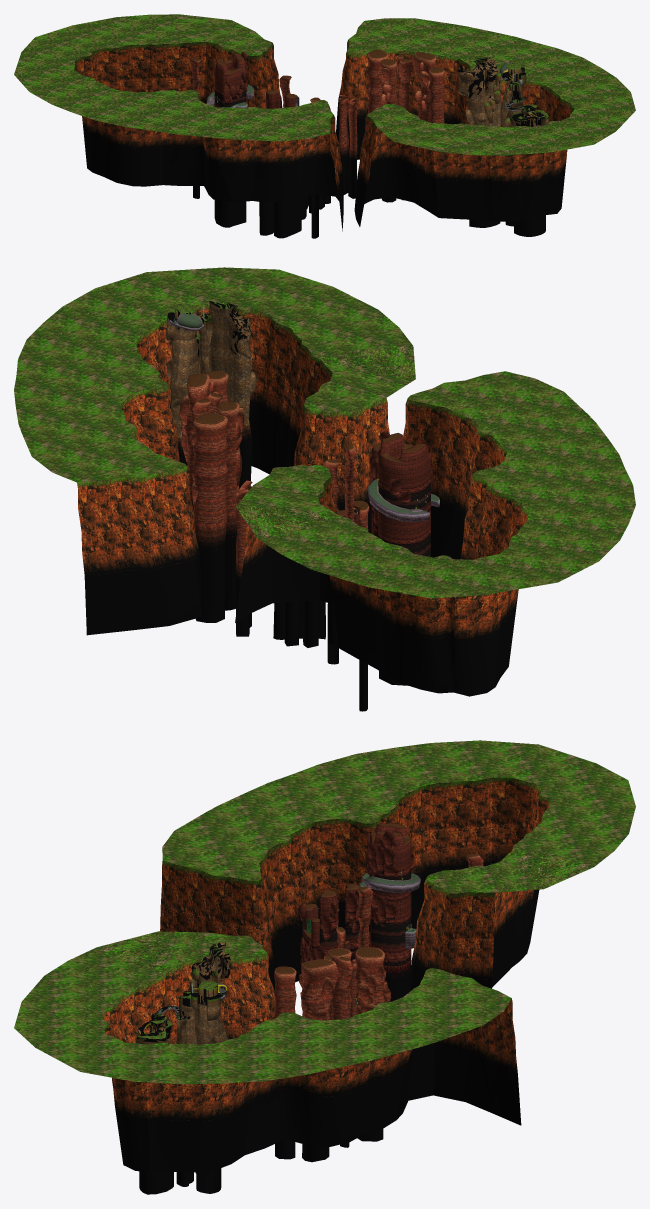
The model's file is mountain_red.glb.
3 views of the same model, one above another, from view 1: azimuth 30°, elevation 25°; view 2: azimuth 150°, elevation 25°; view 3: azimuth 270°, elevation 25° (orthographic). The views are drawn at different scales.
Visible parts, largest first — view 1: Object_24, Object_41, Object_9, Object_18, Object_11, Object_47, Object_30, Object_17, Object_38, Object_35, Object_36; view 2: Object_24, Object_41, Object_18, Object_9, Object_11, Object_47, Object_17, Object_38, Object_35, Object_32, Object_29, Object_21 (+3 smaller); view 3: Object_24, Object_41, Object_18, Object_9, Object_11, Object_17, Object_47, Object_38, Object_29, Object_30, Object_21, Object_35 (+2 smaller).
Boxes of the visible parts, x1,y1,x2,y2 form: Object_24: [14, 14, 635, 155]; Object_41: [83, 100, 565, 238]; Object_9: [82, 71, 567, 192]; Object_18: [74, 39, 574, 163]; Object_11: [190, 58, 444, 148]; Object_47: [457, 60, 548, 127]; Object_30: [458, 57, 548, 126]; Object_17: [214, 51, 299, 108]; Object_38: [190, 54, 444, 107]; Object_35: [193, 50, 443, 100]; Object_36: [475, 58, 536, 127]; Object_24: [14, 267, 635, 598]; Object_41: [84, 403, 516, 711]; Object_18: [77, 303, 528, 600]; Object_9: [81, 360, 518, 640]; Object_11: [179, 388, 368, 563]; Object_47: [165, 304, 257, 434]; Object_17: [344, 430, 433, 538]; Object_38: [179, 375, 368, 517]; Object_35: [188, 370, 424, 515]; Object_32: [190, 494, 243, 580]; Object_29: [370, 456, 432, 546]; Object_21: [374, 486, 430, 556]; Object_24: [14, 740, 635, 1084]; Object_41: [115, 863, 539, 1194]; Object_18: [101, 777, 551, 1084]; Object_9: [112, 824, 534, 1120]; Object_11: [274, 860, 483, 1020]; Object_17: [298, 824, 414, 964]; Object_47: [135, 942, 230, 1044]; Object_38: [274, 856, 482, 1019]; Object_29: [300, 842, 413, 961]; Object_30: [137, 942, 230, 1043]; Object_21: [305, 870, 411, 947]; Object_35: [276, 823, 478, 973].
Bounding box in the file's own units: 8232 × 3051 × 6880.
45 materials, 43 textured.
